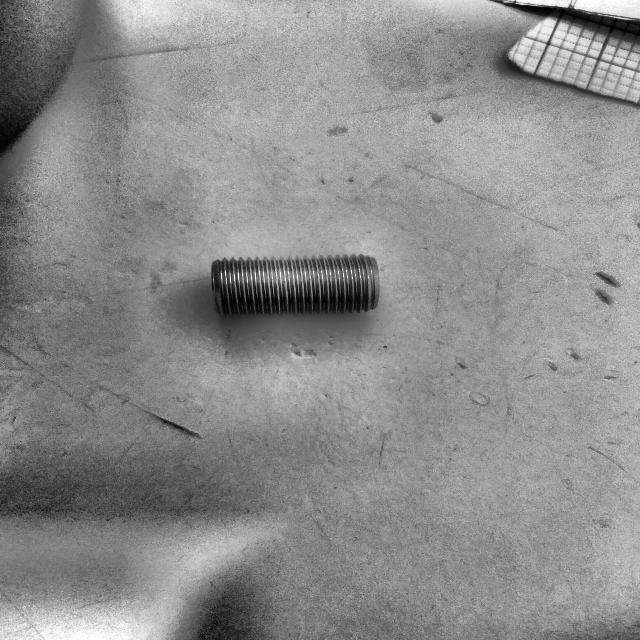Normal: (211, 252, 379, 321)
